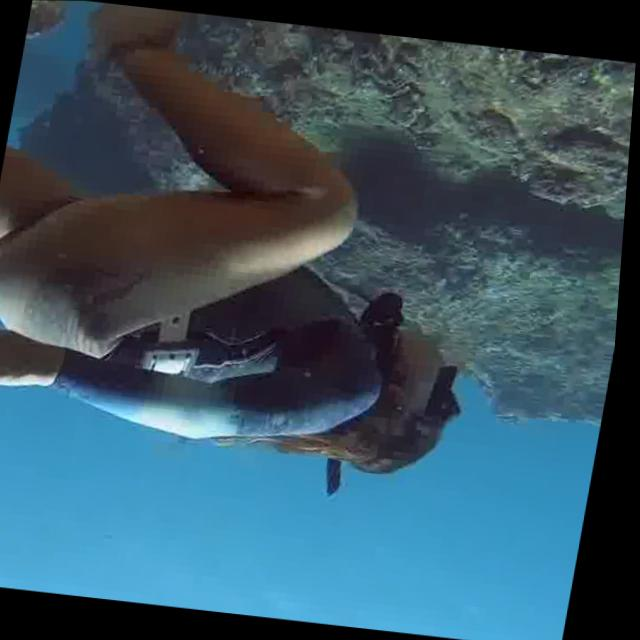human: (0, 0, 534, 522)
